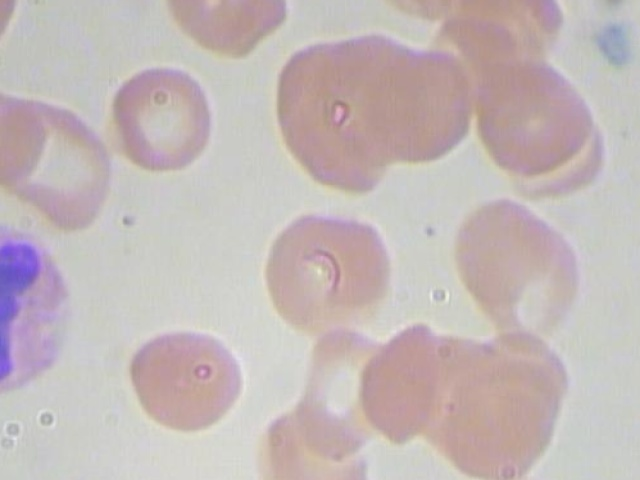Platelets: (576, 20, 638, 76)
RBC: (260, 210, 393, 346), (467, 45, 599, 181), (0, 95, 125, 236), (345, 39, 476, 167), (120, 322, 251, 434), (444, 189, 567, 308), (100, 61, 230, 173), (435, 366, 558, 480), (155, 0, 297, 66), (0, 77, 51, 189), (0, 0, 20, 58)
WBC: (0, 215, 101, 404)
